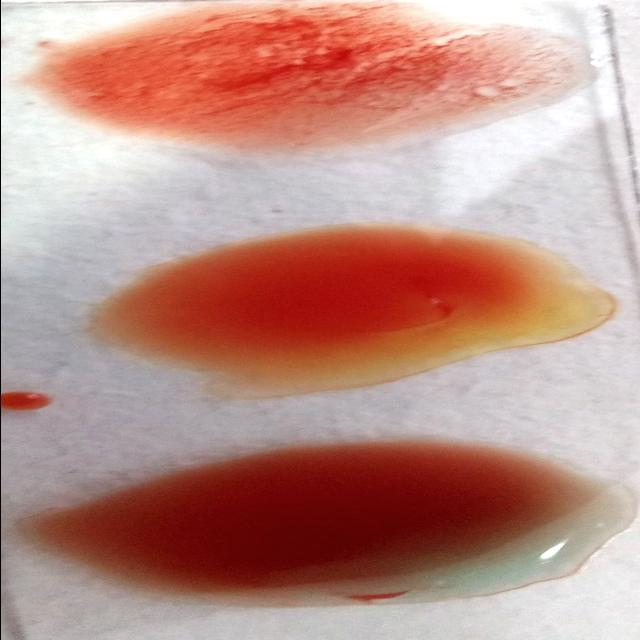D: (32, 1, 597, 150)
